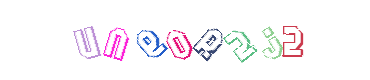2: (168, 0, 248, 80), (215, 0, 295, 80)
E: (113, 0, 193, 80)
J: (200, 0, 280, 80)
N: (76, 0, 156, 80)
O: (144, 0, 224, 80)
R: (147, 0, 227, 80)
U: (70, 0, 150, 80)
